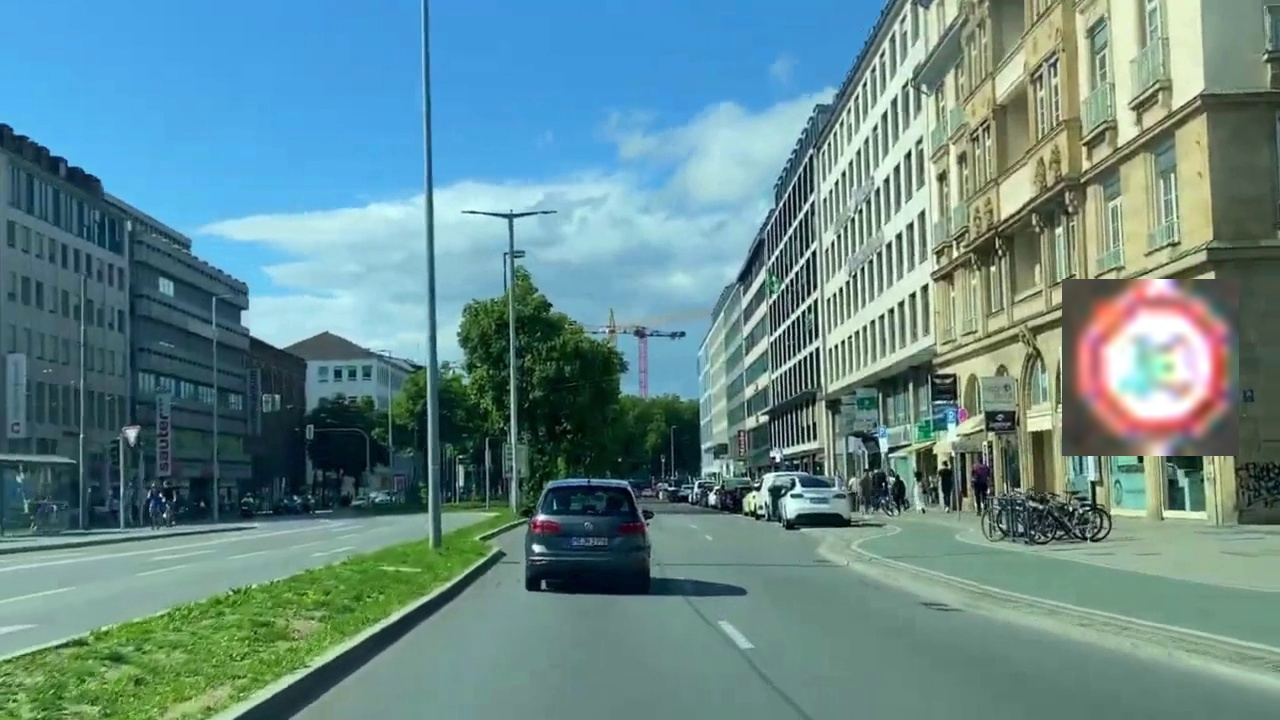Speed 30: (1062, 279, 1239, 456)
